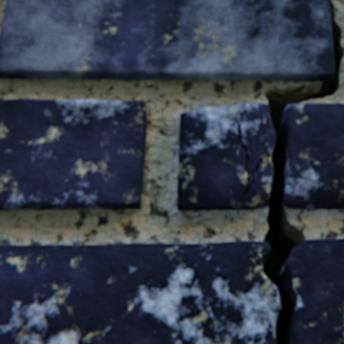brick: (0, 0, 334, 81), (0, 99, 147, 209)
broken_brick: (0, 240, 280, 343), (178, 103, 275, 209), (284, 237, 343, 343), (284, 103, 343, 208)
crack: (262, 0, 343, 343), (237, 122, 267, 197)
